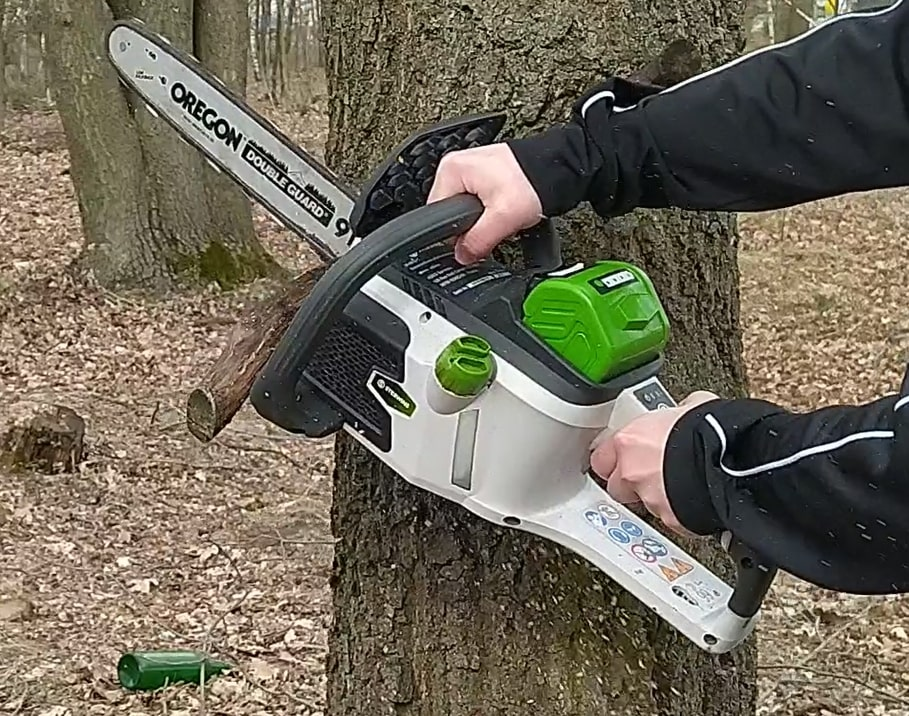chainsaw: (85, 3, 831, 687)
